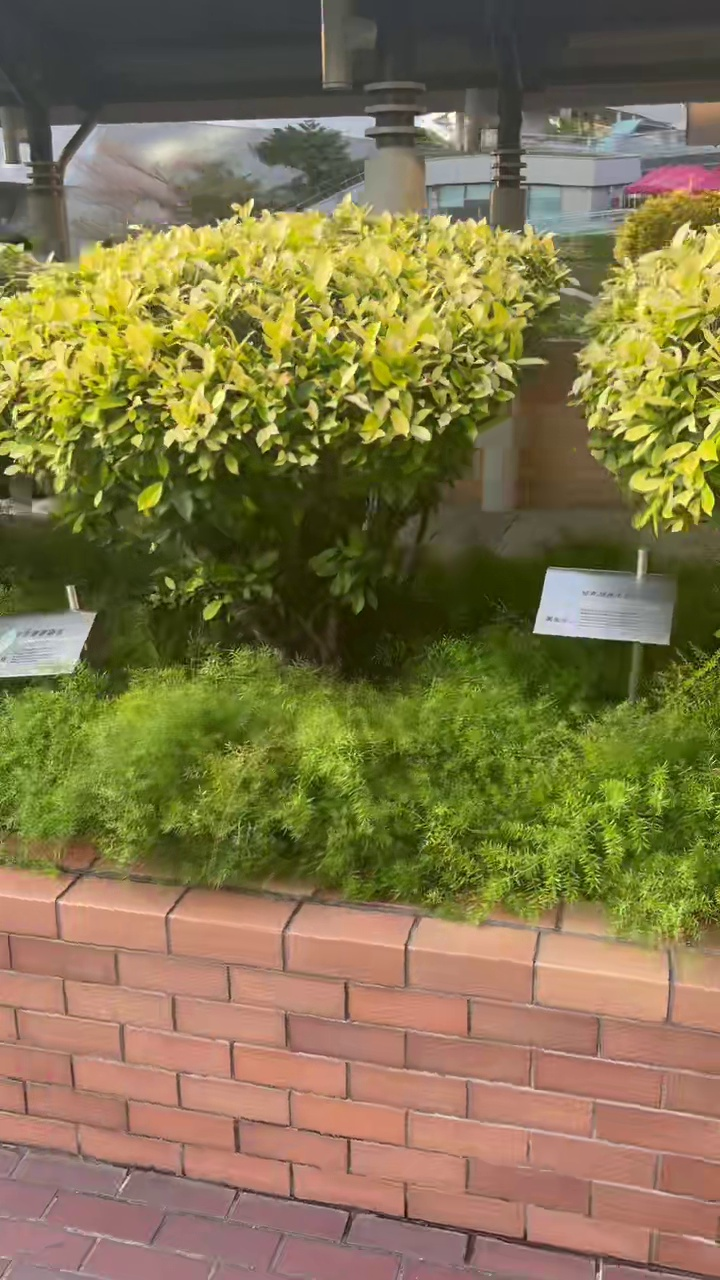Golden-leaves Fig: (0, 204, 565, 665)
